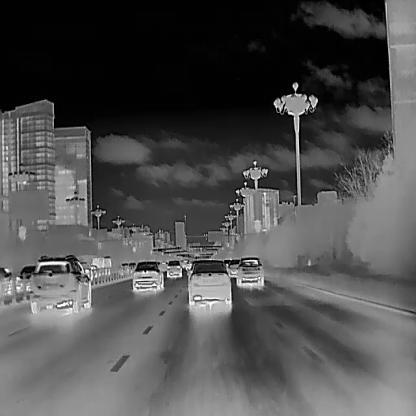car: (29, 254, 91, 314), (186, 258, 230, 305), (133, 259, 163, 293), (235, 257, 263, 287), (14, 266, 37, 292), (165, 259, 182, 277), (226, 258, 239, 276), (126, 262, 138, 278), (117, 262, 127, 276)
